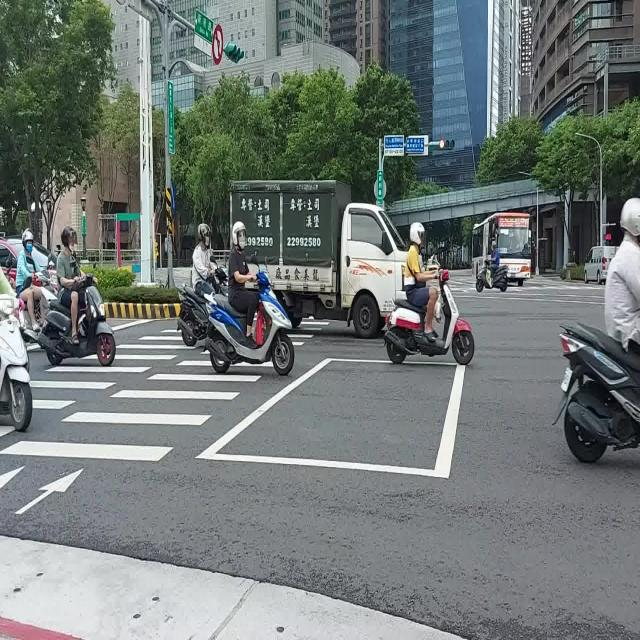bus: (471, 211, 532, 286)
car: (585, 247, 617, 287)
crosswalk: (0, 349, 264, 461), (30, 322, 196, 409), (289, 319, 330, 346)
motocycle: (555, 322, 640, 462), (205, 269, 294, 376), (385, 271, 475, 364), (32, 284, 116, 367), (0, 293, 32, 431), (178, 287, 209, 347), (476, 262, 508, 291), (212, 267, 228, 294)
trunk: (230, 180, 406, 337)
